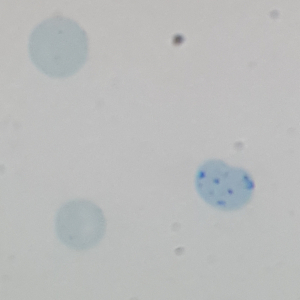aggregate reticulocyte: (193, 156, 257, 211)
erythrocyte: (53, 198, 106, 252)
punctate reticulocyte: (27, 15, 91, 81)
